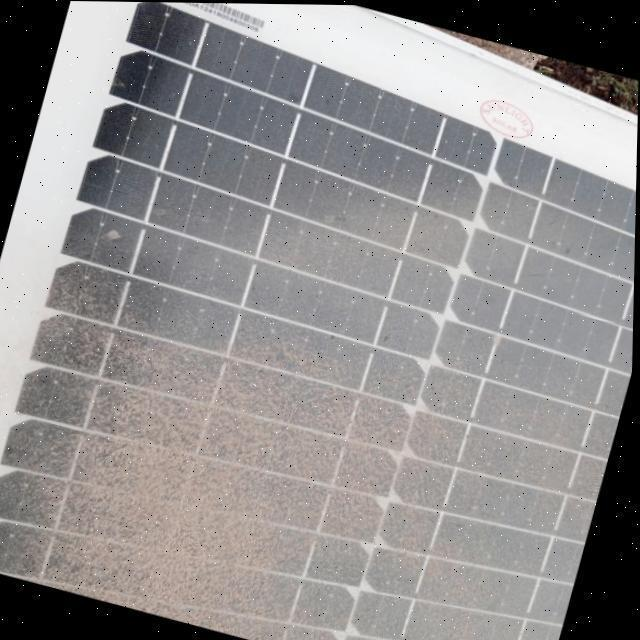Surface Contaminant: (0, 53, 637, 640)
